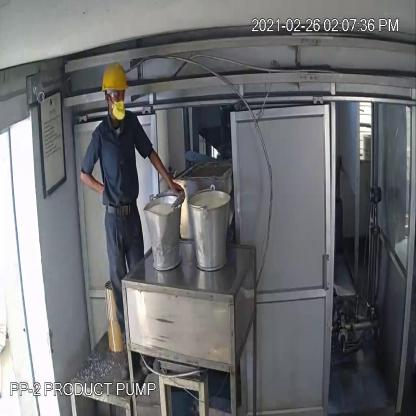helmet: (99, 58, 132, 96)
